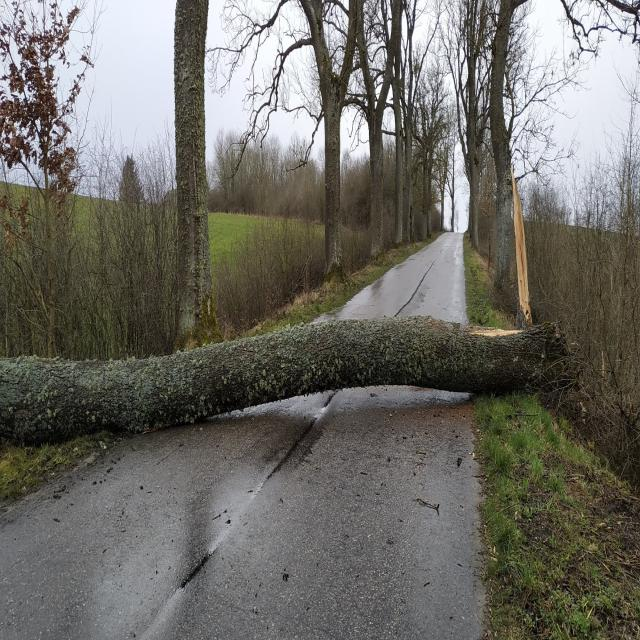fallen_tree: (0, 314, 571, 448)
